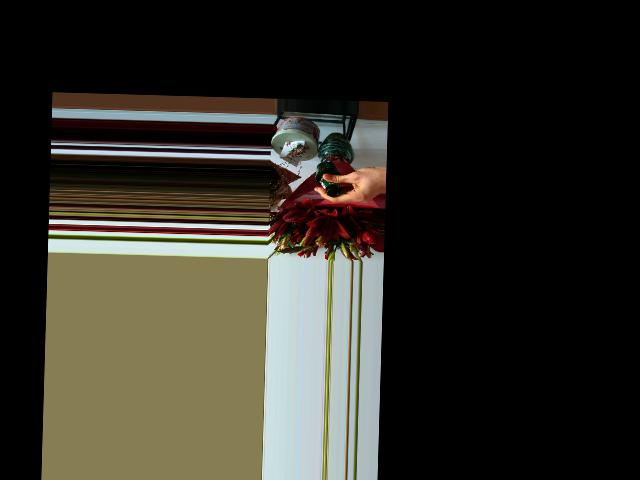beer: (315, 161, 342, 197)
